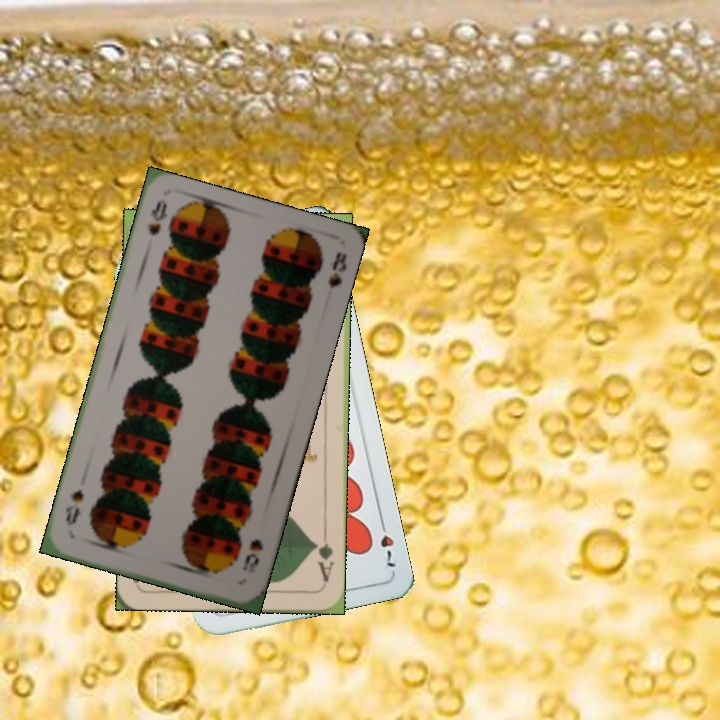GA: (310, 528, 337, 587)
H7: (376, 514, 398, 570)
S8: (238, 534, 266, 576), (143, 196, 170, 238)
